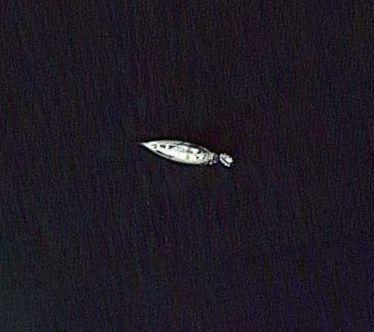Ships: (136, 122, 239, 179)
